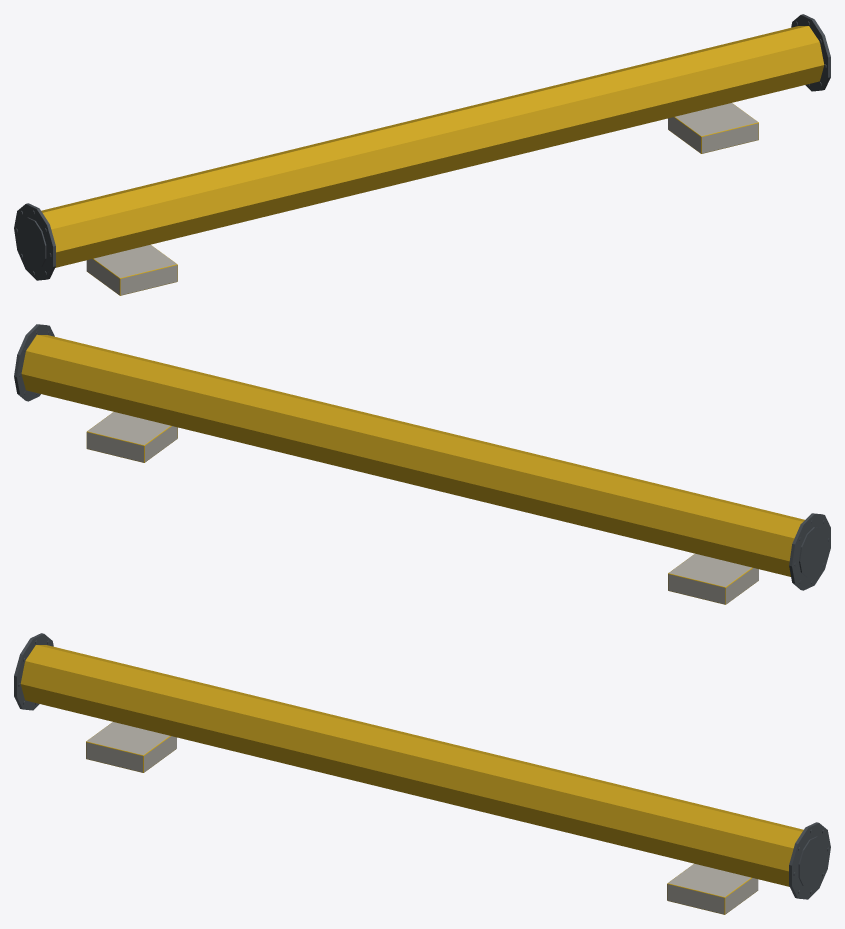
The model's file is gam_pipe_straight.glb.
The picture shows the model from 3 angles, top to bottom: view 1: azimuth 30°, elevation 25°; view 2: azimuth 150°, elevation 25°; view 3: azimuth 330°, elevation 25°; orthographic projection.
Parts seen in each view (by area): view 1: gam_pipe_straight; view 2: gam_pipe_straight; view 3: gam_pipe_straight.
Boxes of the visible parts, <box> form: gam_pipe_straight: <box>14,14,830,295</box>; gam_pipe_straight: <box>14,324,830,604</box>; gam_pipe_straight: <box>14,633,830,914</box>.
Size of the model in its own units: 16.11 by 1.85 by 1.4.
